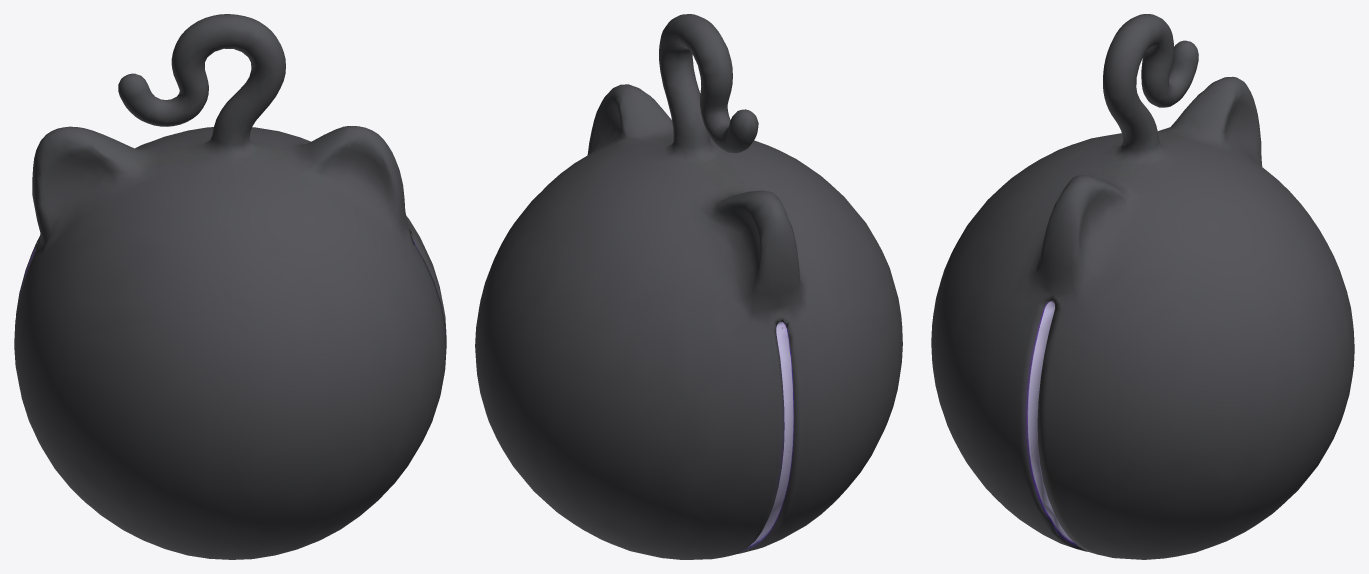
The model's file is shadow-whisper-bell.glb.
The picture shows the model from 3 angles, left to right: view 1: azimuth 30°, elevation 25°; view 2: azimuth 150°, elevation 25°; view 3: azimuth 270°, elevation 25°; orthographic projection.
Visible parts, largest first — view 1: tripo_node_482b5f56-f40e-4aff-b9e5-7d28882cfc09; view 2: tripo_node_482b5f56-f40e-4aff-b9e5-7d28882cfc09; view 3: tripo_node_482b5f56-f40e-4aff-b9e5-7d28882cfc09.
Boxes of the visible parts, box(x1,y1,x2,y2) form: tripo_node_482b5f56-f40e-4aff-b9e5-7d28882cfc09: box(14, 14, 446, 559); tripo_node_482b5f56-f40e-4aff-b9e5-7d28882cfc09: box(475, 14, 902, 559); tripo_node_482b5f56-f40e-4aff-b9e5-7d28882cfc09: box(931, 14, 1354, 559).
Size of the model in its own units: 0.7407 by 0.9995 by 0.7388.
Materials: 1 (1 with a texture image).
